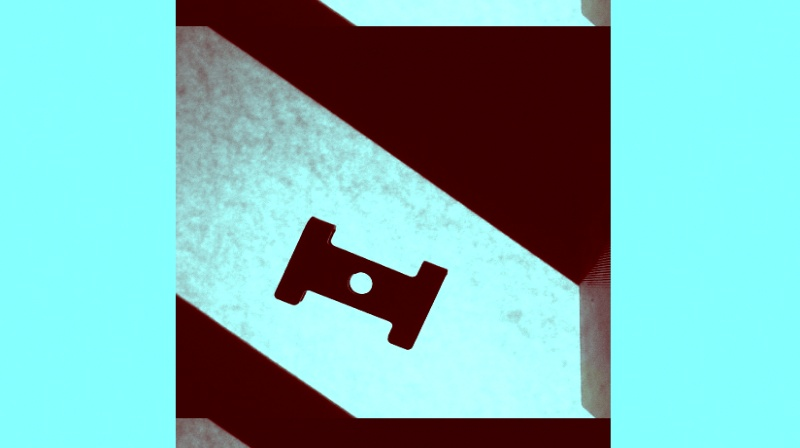O002: (272, 214, 450, 351)
